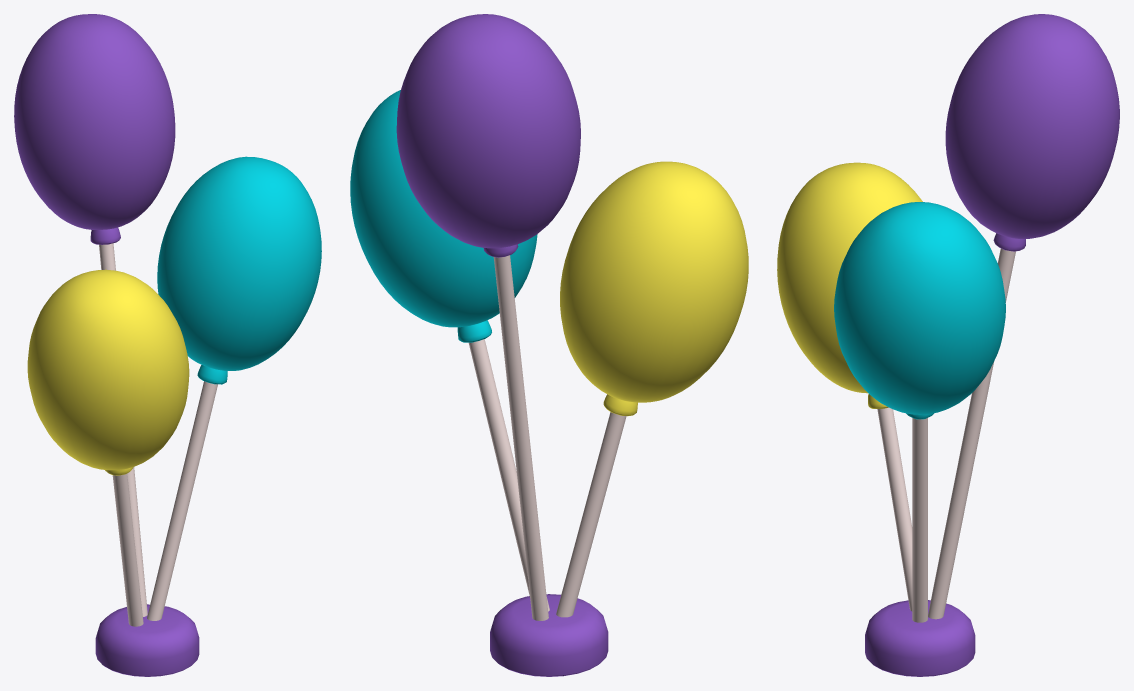
The model's file is Public_14_Air_Balloons_2.glb.
3 renders of one model, left to right at view 1: azimuth 30°, elevation 25°; view 2: azimuth 150°, elevation 25°; view 3: azimuth 270°, elevation 25°, orthographic. The views are drawn at different scales.
Visible parts, largest first — view 1: Public_14_Air_Balloons_2; view 2: Public_14_Air_Balloons_2; view 3: Public_14_Air_Balloons_2.
Boxes of the visible parts, bbox=[...] form: Public_14_Air_Balloons_2: bbox=[14, 14, 321, 676]; Public_14_Air_Balloons_2: bbox=[350, 14, 748, 676]; Public_14_Air_Balloons_2: bbox=[777, 14, 1119, 676].
Bounding box in the file's own units: 1.41 × 2.68 × 1.31.
Materials: 1 (1 with a texture image).
